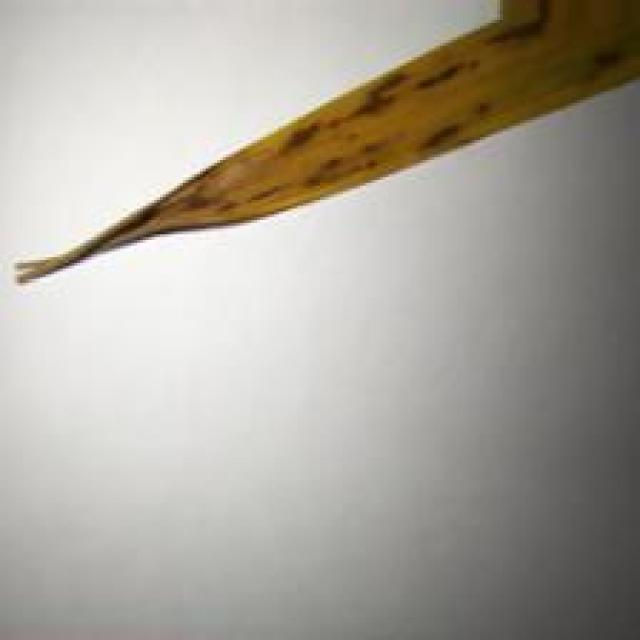Narrow_Brown_Leaf_Spot: (6, 0, 640, 292)
